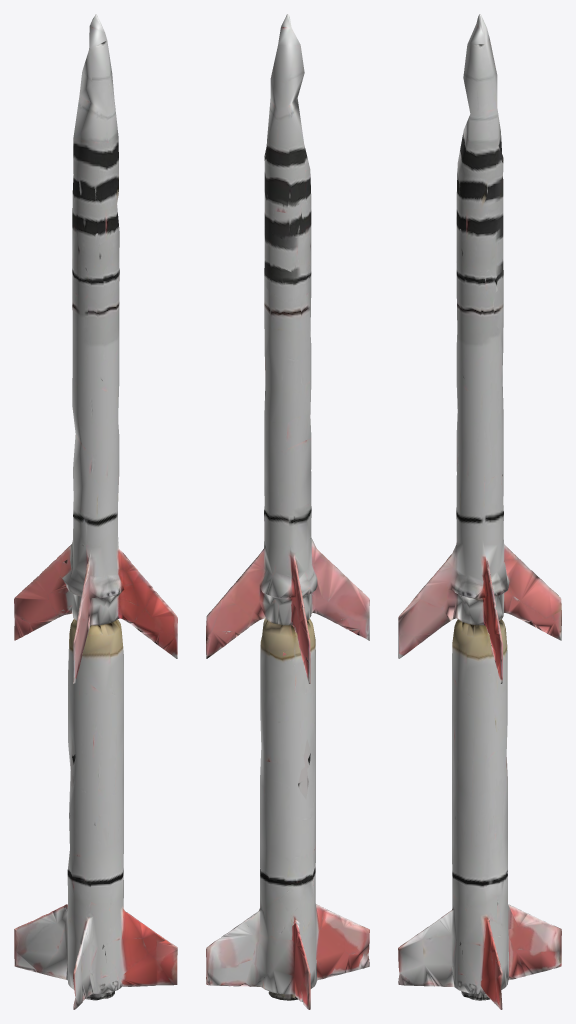
File: ogre-low.glb
The picture shows the model from 3 angles, left to right: view 1: azimuth 30°, elevation 25°; view 2: azimuth 150°, elevation 25°; view 3: azimuth 330°, elevation 25°; orthographic projection.
Size of the model in its own units: 0.2126 by 1.9 by 0.2122.
1 material, 1 textured.
